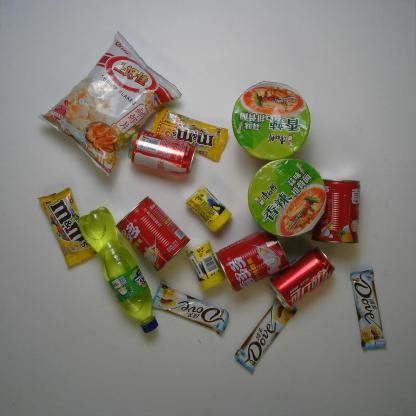Canned Food: (115, 195, 191, 272), (215, 226, 292, 294), (311, 178, 362, 244)
Chocolate: (233, 298, 298, 374), (148, 104, 230, 164), (38, 186, 98, 268), (152, 283, 230, 336), (349, 268, 387, 350)
Drink: (78, 206, 159, 335), (266, 246, 336, 309), (127, 129, 196, 177)
Gum: (185, 184, 233, 232), (185, 240, 226, 292)
Instant Noodles: (230, 79, 312, 162), (246, 158, 328, 238)
Puffed Food: (35, 29, 184, 179)
